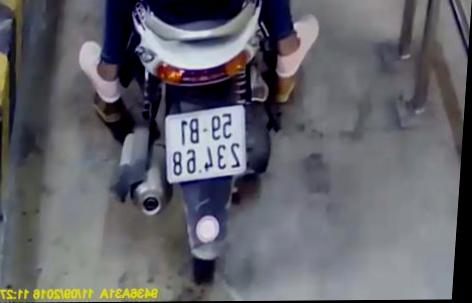License_Plate: (157, 100, 262, 189)
